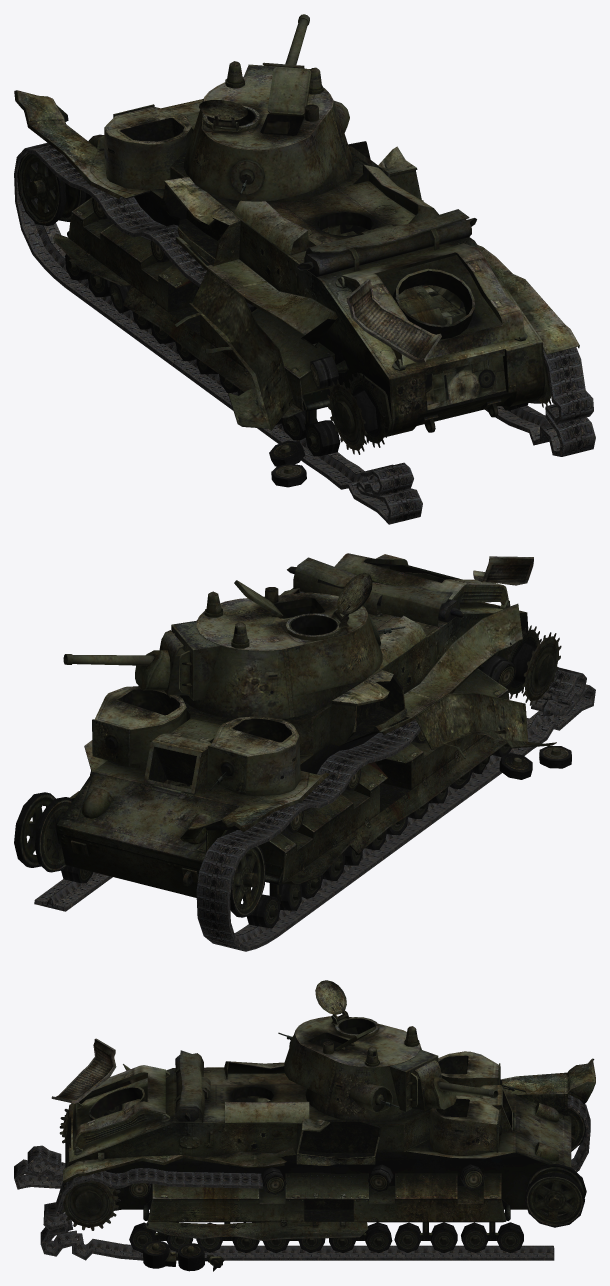
Rendered from -28_sd_crash.glb.
3 renders of one model, top to bottom at view 1: azimuth 30°, elevation 25°; view 2: azimuth 150°, elevation 25°; view 3: azimuth 270°, elevation 25°, orthographic. The views are drawn at different scales.
Parts seen in each view (by area): view 1: vertices.003, track_RShape.001, vertices.004, gun_05Shape; view 2: vertices.003, vertices.004, track_RShape.001, gun_05Shape; view 3: vertices.003, vertices.004, track_RShape.001, gun_05Shape.
Part boxes in pixels (x1=…): vertices.003: x1=14, y1=90, x2=579, y2=487; track_RShape.001: x1=14, y1=142, x2=595, y2=524; vertices.004: x1=183, y1=61, x2=354, y2=201; gun_05Shape: x1=262, y1=14, x2=309, y2=68; vertices.003: x1=14, y1=553, x2=571, y2=928; vertices.004: x1=171, y1=573, x2=405, y2=718; track_RShape.001: x1=34, y1=667, x2=595, y2=951; gun_05Shape: x1=63, y1=630, x2=188, y2=698; vertices.003: x1=51, y1=1038, x2=595, y2=1271; vertices.004: x1=278, y1=980, x2=438, y2=1122; track_RShape.001: x1=14, y1=1094, x2=590, y2=1260; gun_05Shape: x1=411, y1=1060, x2=498, y2=1112.
Bounding box in the file's own units: 3.89 × 3.22 × 8.14.
6 materials, 6 textured.
